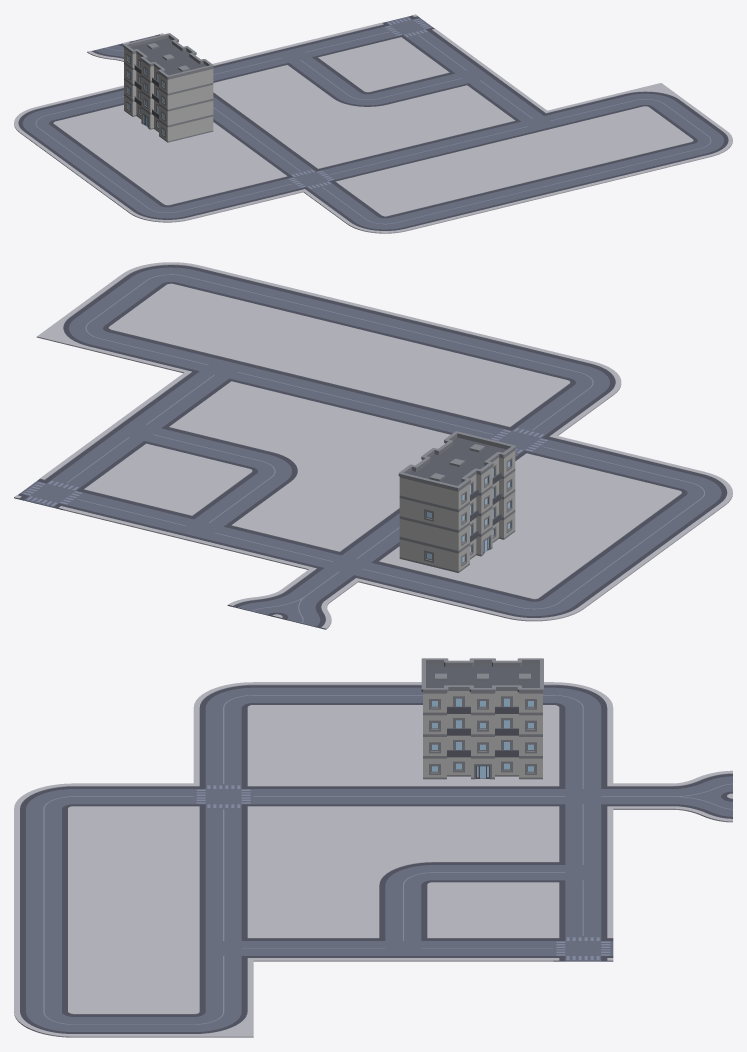
3 renders of one model, top to bottom at view 1: azimuth 30°, elevation 25°; view 2: azimuth 150°, elevation 25°; view 3: azimuth 270°, elevation 25°, orthographic. The views are drawn at different scales.
Parts seen in each view (by area): view 1: large_buildingA, road_straight.043, road_straight.002, road_straight.007, road_straight.037, road_straight.039, road_straight.044, road_straight.011, road_straight.038, road_straight.041, road_straight.042, road_straight.040 (+95 smaller); view 2: large_buildingA, road_split, road_straight.013, road_straight.032, road_straight.009, road_straight.012, road_straight.033, road_straight.046, road_straight.022, road_straight.014, road_straight.045, road_bendSidewalk.001 (+92 smaller); view 3: large_buildingA, road_split, road_straight.025, road_straight.029, road_straight.034, road_straight.035, road_straight.048, road_bendSidewalk, road_straight.021, road_straight.047, road_bendSidewalk.001, road_intersection.002 (+93 smaller).
Boxes of the visible parts, bbox=[...] form: large_buildingA: bbox=[123, 33, 213, 142]; road_straight.043: bbox=[613, 149, 672, 175]; road_straight.002: bbox=[244, 175, 303, 201]; road_straight.007: bbox=[206, 185, 265, 210]; road_straight.037: bbox=[385, 205, 445, 230]; road_straight.039: bbox=[461, 186, 520, 212]; road_straight.044: bbox=[651, 140, 710, 166]; road_straight.011: bbox=[168, 194, 227, 219]; road_straight.038: bbox=[423, 196, 482, 221]; road_straight.041: bbox=[537, 168, 596, 193]; road_straight.042: bbox=[575, 159, 634, 184]; road_straight.040: bbox=[499, 177, 558, 203]; large_buildingA: bbox=[398, 431, 516, 572]; road_split: bbox=[227, 590, 331, 629]; road_straight.013: bbox=[407, 572, 484, 605]; road_straight.032: bbox=[112, 500, 189, 534]; road_straight.009: bbox=[260, 536, 336, 569]; road_straight.012: bbox=[358, 560, 435, 593]; road_straight.033: bbox=[63, 488, 140, 521]; road_straight.046: bbox=[86, 328, 162, 361]; road_straight.022: bbox=[210, 524, 287, 557]; road_straight.014: bbox=[456, 584, 533, 617]; road_straight.045: bbox=[135, 339, 212, 372]; road_bendSidewalk.001: bbox=[36, 315, 113, 349]; large_buildingA: bbox=[421, 658, 543, 779]; road_split: bbox=[673, 770, 732, 822]; road_straight.025: bbox=[253, 935, 313, 961]; road_straight.029: bbox=[313, 935, 373, 961]; road_straight.034: bbox=[493, 935, 553, 961]; road_straight.035: bbox=[433, 935, 493, 961]; road_straight.048: bbox=[133, 1011, 193, 1037]; road_bendSidewalk: bbox=[373, 859, 433, 885]; road_straight.021: bbox=[613, 783, 672, 809]; road_straight.047: bbox=[74, 1011, 133, 1037]; road_bendSidewalk.001: bbox=[193, 1011, 253, 1037]; road_intersection.002: bbox=[373, 935, 433, 961].
Bounding box in the file's own units: 14 × 1.68 × 12.
